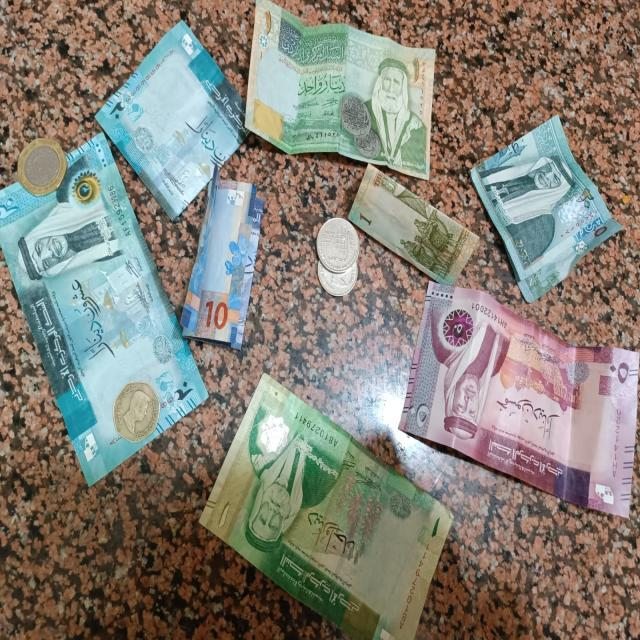1-dinar: (196, 368, 456, 640), (243, 3, 439, 182), (348, 166, 482, 293)
10-coins: (318, 217, 362, 271)
10-dinar: (180, 162, 269, 352)
20-dinar: (2, 134, 210, 488), (96, 17, 251, 219), (471, 115, 624, 302)
5-coins: (316, 257, 363, 297)
50-coins: (14, 134, 68, 197)
50-dinar: (390, 277, 640, 523)
